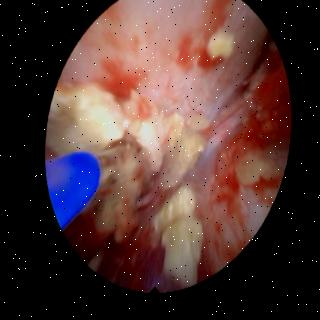fiber: (47, 155, 101, 229)
stone: (130, 117, 204, 190), (50, 90, 128, 153), (154, 190, 202, 289), (86, 154, 139, 243), (237, 157, 281, 188), (207, 34, 234, 63)
